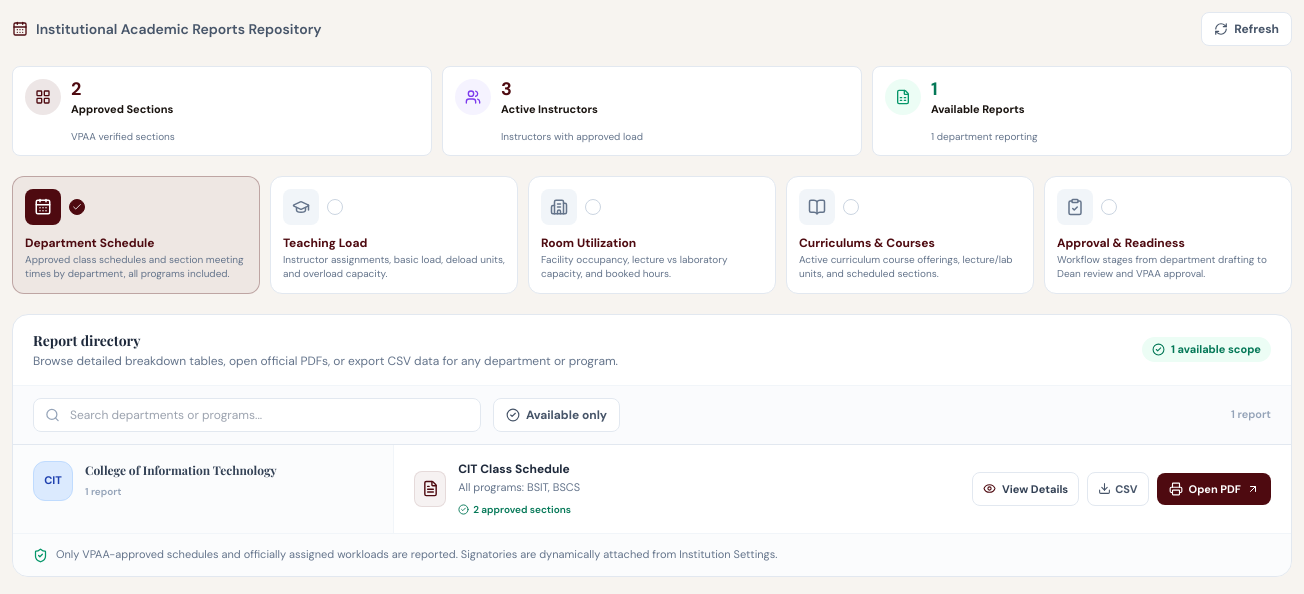
Test: Reports directory › switches to room utilization, curriculum, and approval tabs
Check: the text "CIT Class Schedule" is shown, box [458,460,570,476]
# Room tab
Click the tab "Room Utilization": (652, 235) [528,176,776,294]
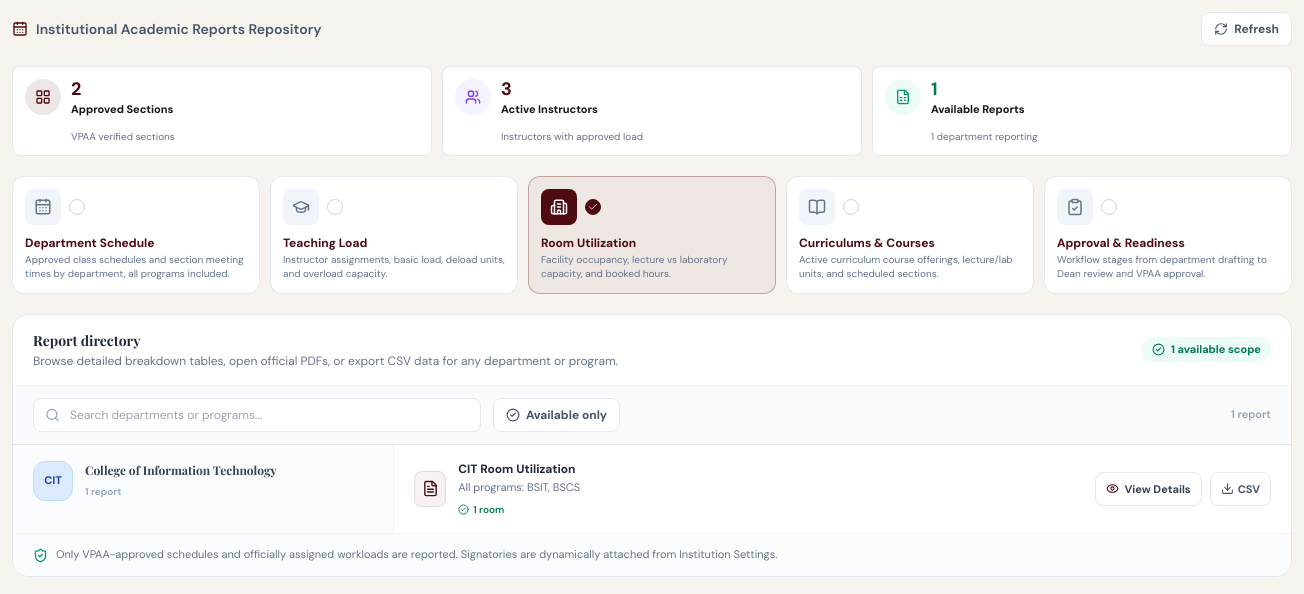
Check: the text "CIT Room Utilization" is shown, box [458,460,576,476]
# Curriculum tab
Click the tab "Curriculums & Courses": (910, 235) [786,176,1034,294]
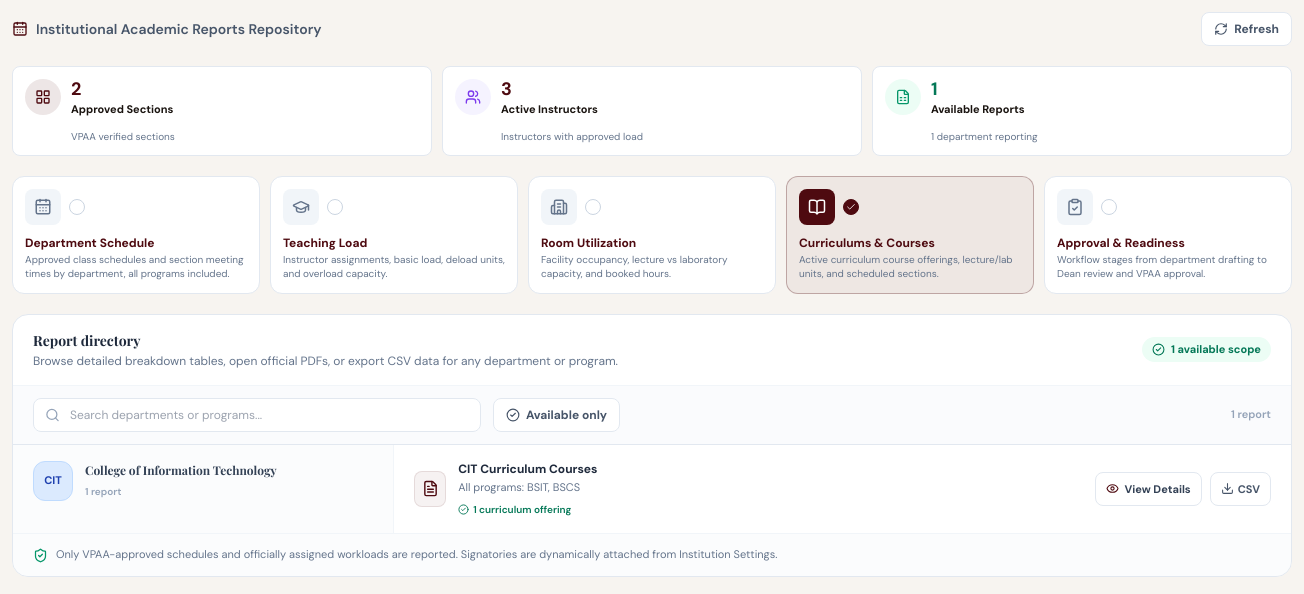
Check: the text "CIT Curriculum Courses" is shown, box [458,460,598,476]
# Approval tab
Click the tab "Approval & Readiness": (1168, 235) [1044,176,1292,294]
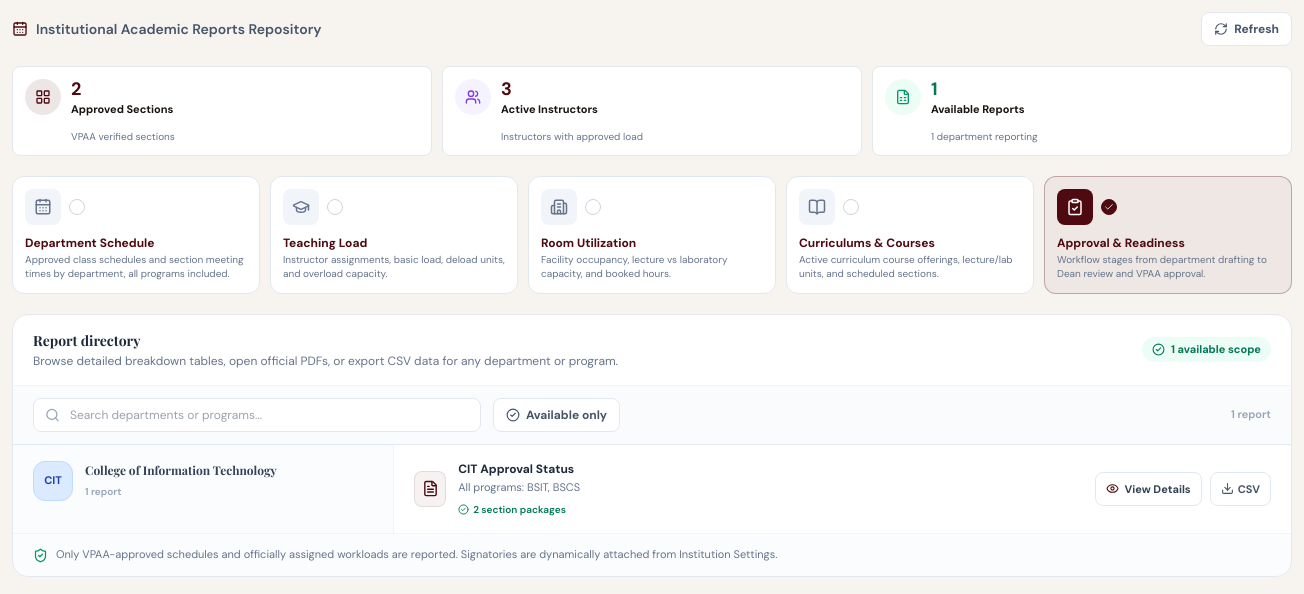
Check: the text "CIT Approval Status" is shown, box [458,460,574,476]
